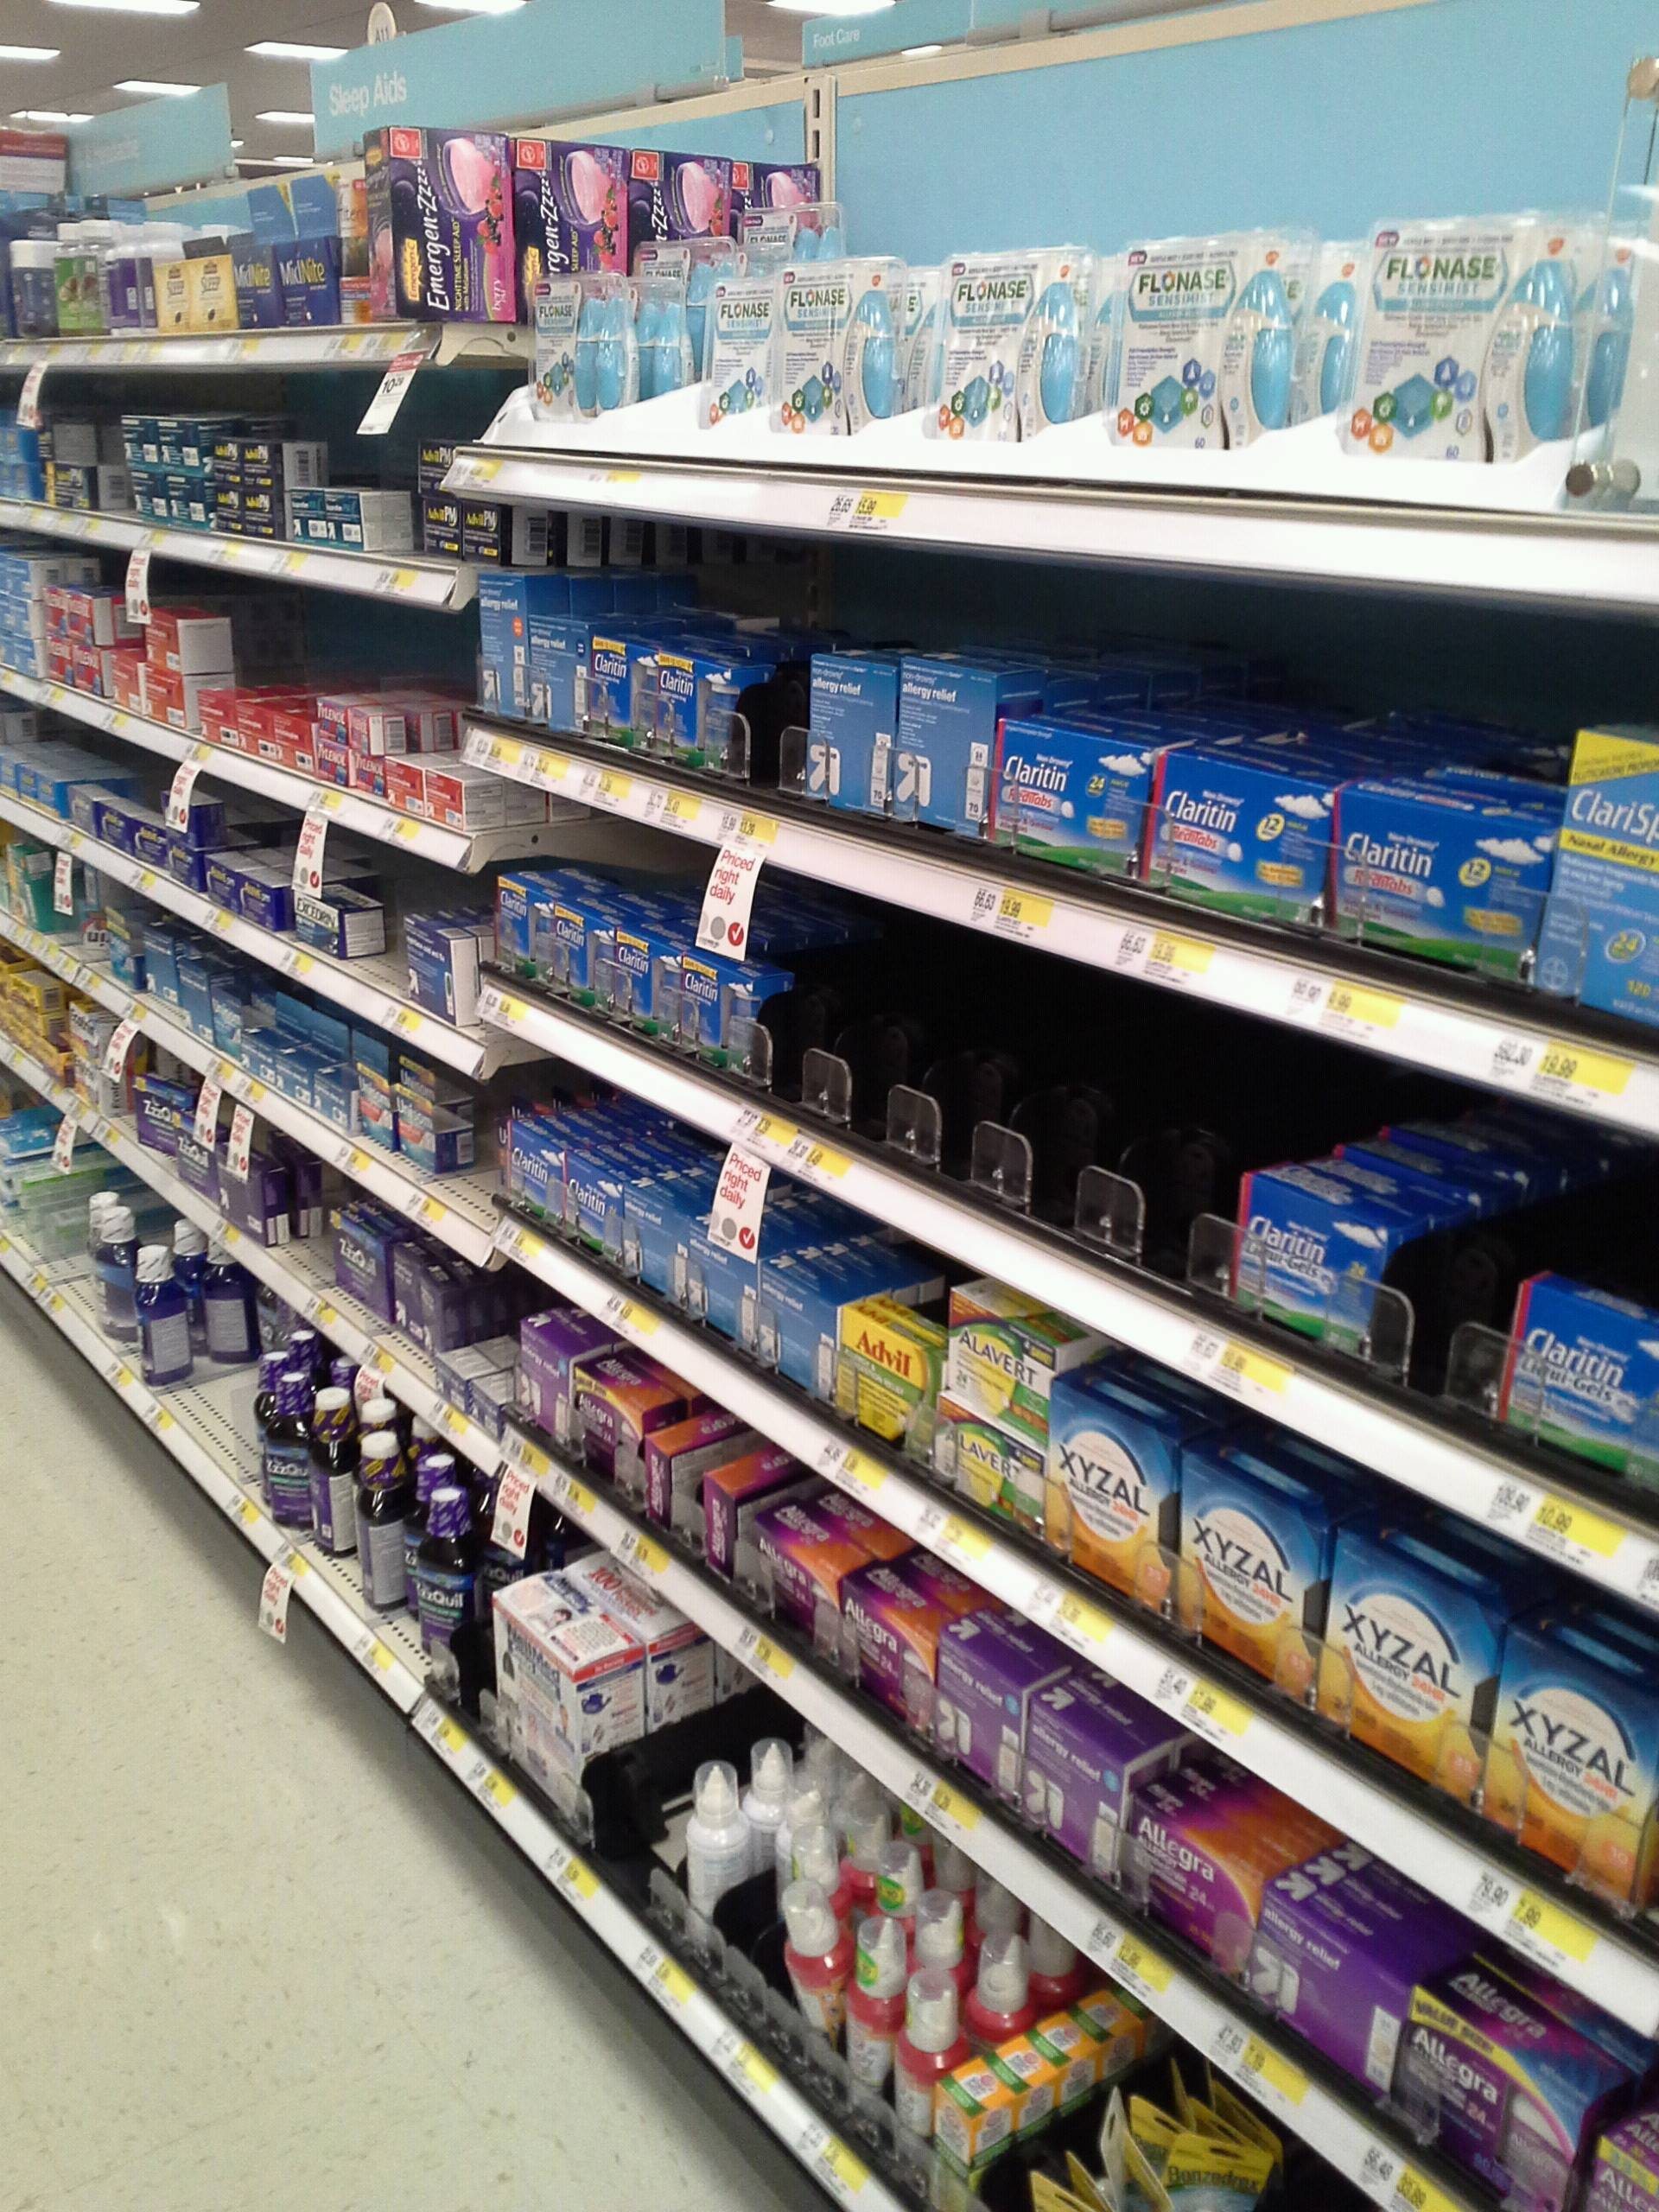Misplacement: (288, 368, 415, 554)
Out-of-stock: (1049, 989, 1190, 1294), (422, 1073, 504, 1256), (253, 1150, 338, 1292), (345, 845, 406, 996)
